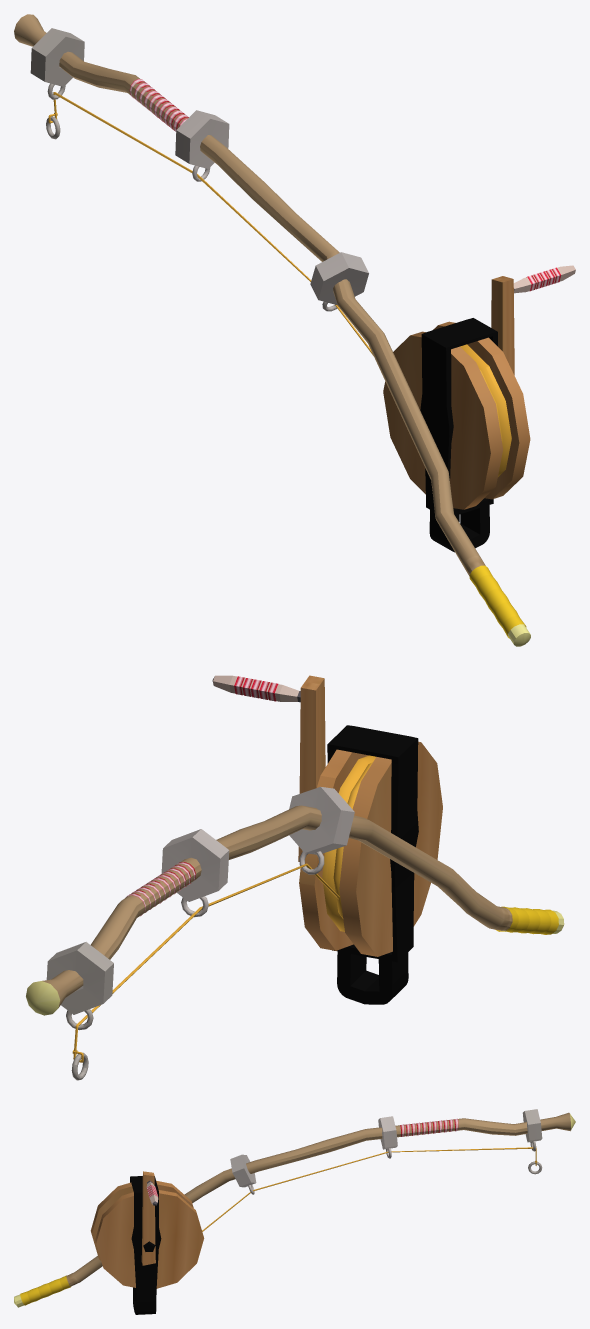
File: Udochka.fbx
The picture shows the model from 3 angles, top to bottom: view 1: azimuth 30°, elevation 25°; view 2: azimuth 150°, elevation 25°; view 3: azimuth 270°, elevation 25°; orthographic projection. The views are drawn at different scales.
Parts seen in each view (by area): view 1: Cylinder.004, Cylinder.012, Cube, Cylinder.002, Cylinder.001, Cylinder.003, Cylinder.005, Cylinder.011, Cylinder.008, Cylinder; view 2: Cylinder.004, Cylinder.012, Cube, Cylinder.002, Cylinder.001, Cylinder.003, Cylinder.005, Cylinder.011, Cylinder.008, Cylinder, Cylinder.007, Cylinder.006; view 3: Cylinder.004, Cylinder.012, Cube, Cylinder.005, Cylinder.008, Cylinder.011, Cylinder.003, Cylinder, Cylinder.001, Cylinder.002.
Boxes of the visible parts, <box> form: Cylinder.004: <box>383,321,530,509</box>; Cylinder.012: <box>14,14,530,646</box>; Cube: <box>420,318,497,552</box>; Cylinder.002: <box>30,28,84,99</box>; Cylinder.001: <box>175,110,229,181</box>; Cylinder.003: <box>310,252,368,311</box>; Cylinder.005: <box>491,276,514,375</box>; Cylinder.011: <box>469,565,526,638</box>; Cylinder.008: <box>48,92,373,355</box>; Cylinder: <box>129,79,188,131</box>; Cylinder.004: <box>299,741,442,956</box>; Cylinder.012: <box>26,805,564,1015</box>; Cube: <box>327,725,418,1004</box>; Cylinder.002: <box>46,942,113,1030</box>; Cylinder.001: <box>161,829,229,917</box>; Cylinder.003: <box>289,786,354,874</box>; Cylinder.005: <box>298,675,325,861</box>; Cylinder.011: <box>495,906,558,934</box>; Cylinder.008: <box>72,863,339,1062</box>; Cylinder: <box>125,862,195,916</box>; Cylinder.007: <box>212,675,300,702</box>; Cylinder.006: <box>234,676,277,701</box>; Cylinder.004: <box>90,1180,204,1288</box>; Cylinder.012: <box>14,1112,575,1307</box>; Cube: <box>130,1176,161,1314</box>; Cylinder.005: <box>141,1171,155,1265</box>; Cylinder.008: <box>202,1147,537,1231</box>; Cylinder.011: <box>20,1275,70,1305</box>; Cylinder.003: <box>230,1154,256,1194</box>; Cylinder: <box>400,1118,458,1136</box>; Cylinder.001: <box>378,1116,397,1158</box>; Cylinder.002: <box>522,1109,542,1151</box>.
Size of the model in its own units: 1.3 by 4.63 by 1.7.
